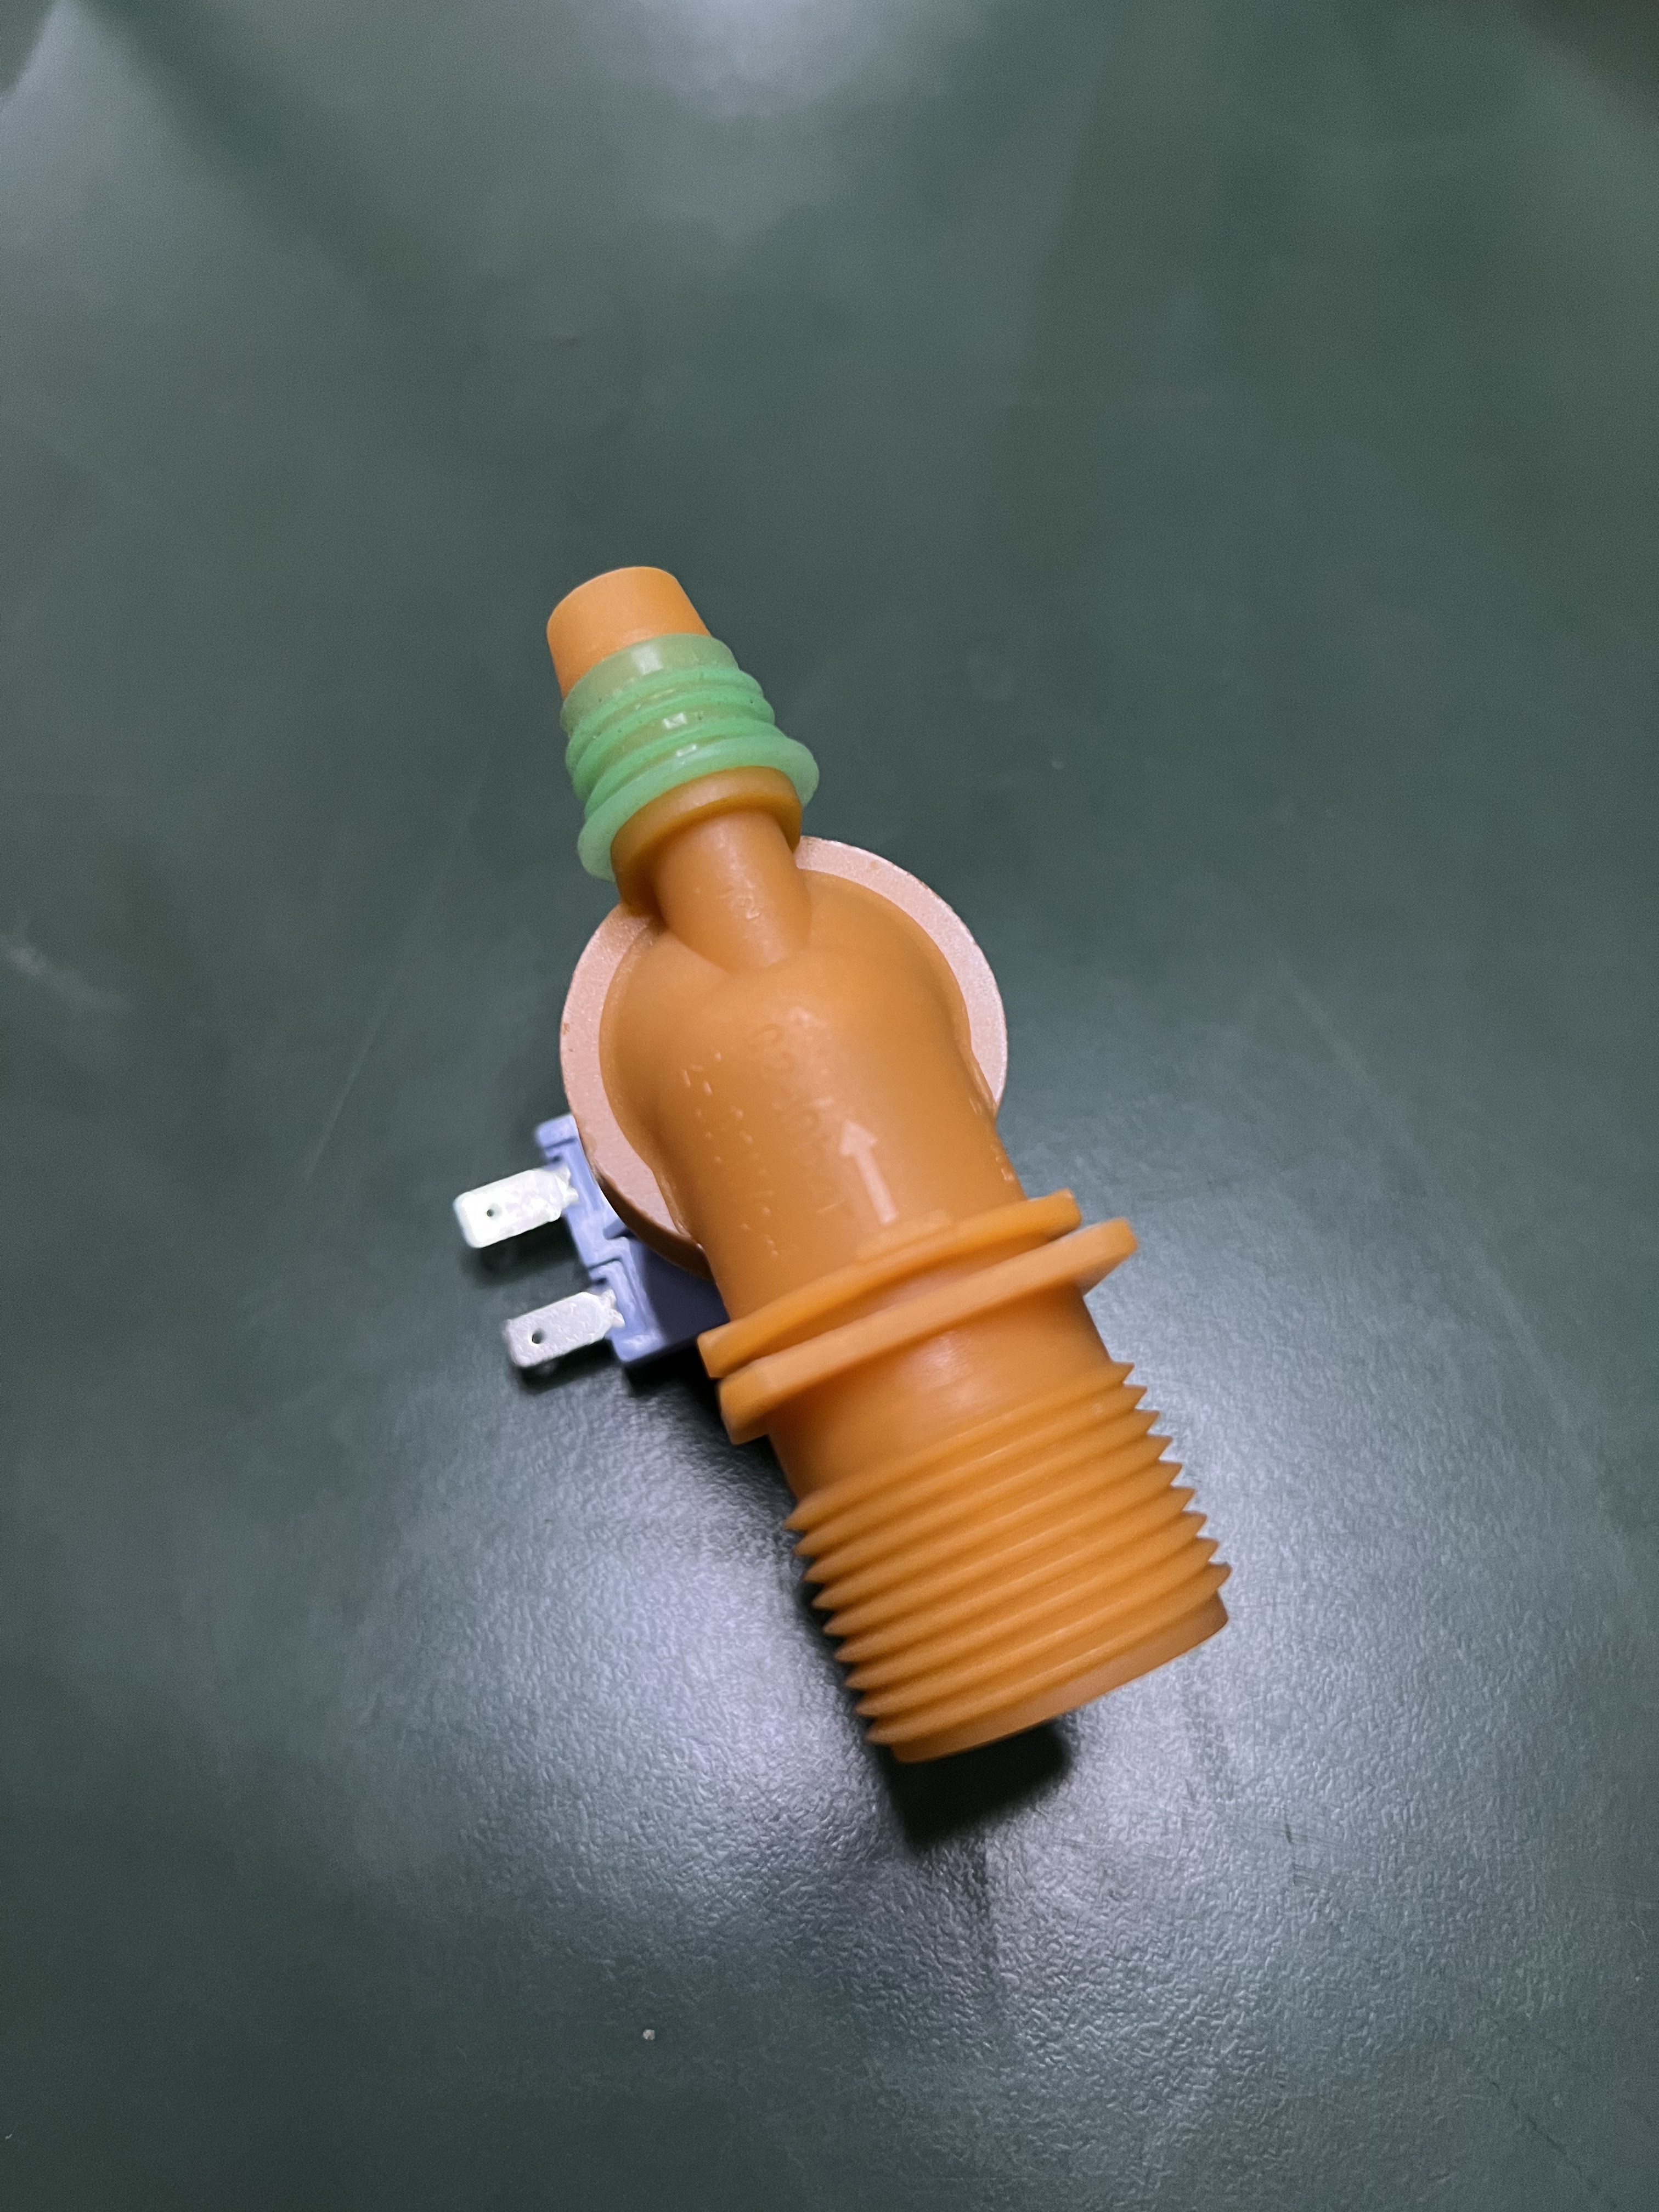ss_inlet_valves: (362, 514, 1323, 1818)
